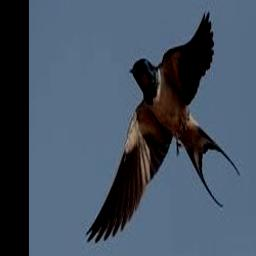Swallow: (84, 11, 240, 241)
